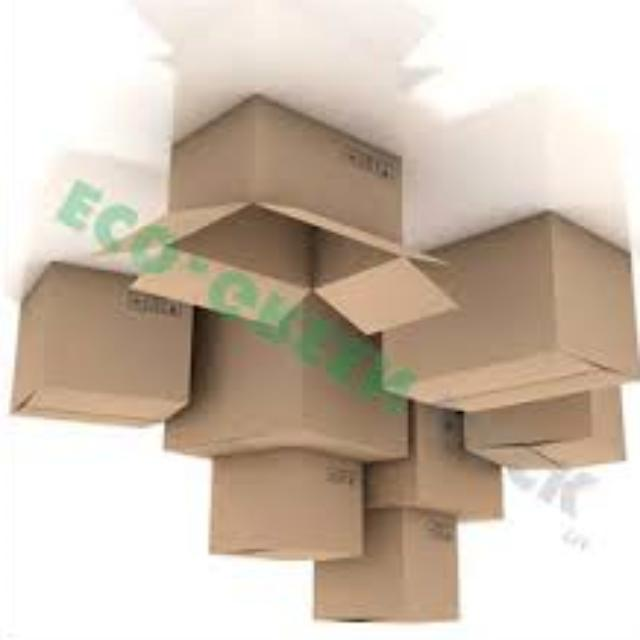cardboard paper: (90, 94, 461, 335), (379, 220, 631, 414), (164, 299, 405, 461), (9, 270, 188, 429), (208, 455, 358, 564), (311, 514, 452, 622), (367, 405, 499, 520), (464, 390, 622, 470)
